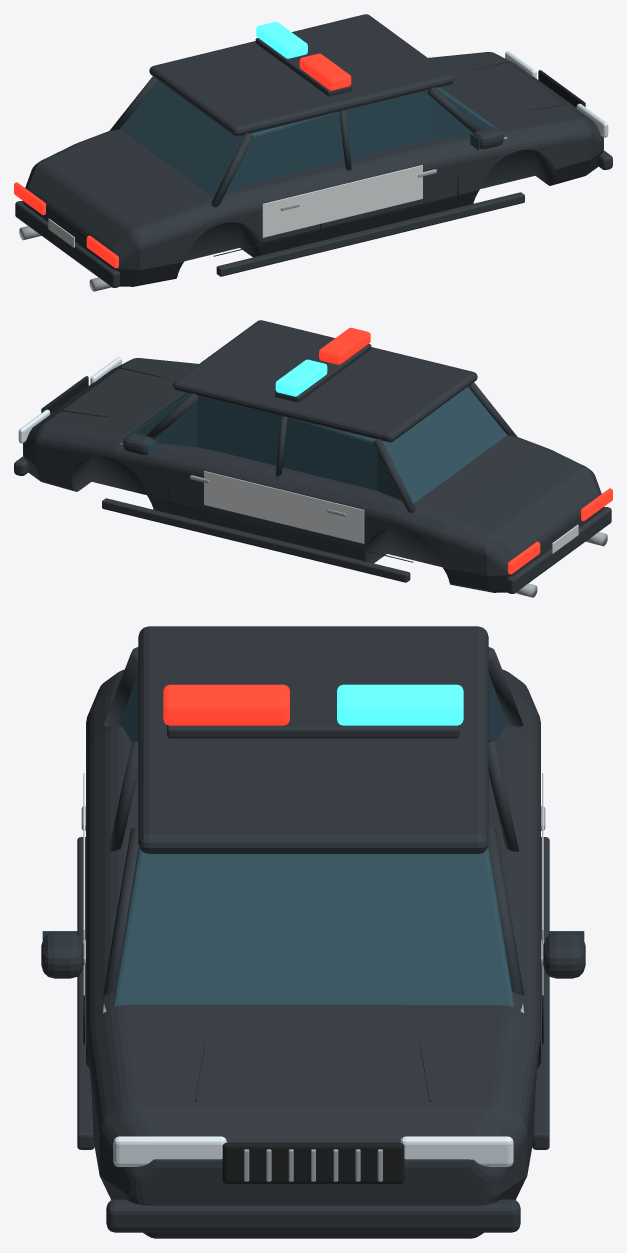
The model's file is SM_Police.fbx.
3 views of the same model, one above another, from view 1: azimuth 30°, elevation 25°; view 2: azimuth 150°, elevation 25°; view 3: azimuth 270°, elevation 25° (orthographic). The views are drawn at different scales.
Parts seen in each view (by area): view 1: SM_Police; view 2: SM_Police; view 3: SM_Police.
Part boxes in pixels (x1=…): SM_Police: x1=14, y1=14, x2=612, y2=291; SM_Police: x1=14, y1=320, x2=612, y2=597; SM_Police: x1=41, y1=626, x2=585, y2=1238.
Bounding box in the file's own units: 500 × 232 × 146.
